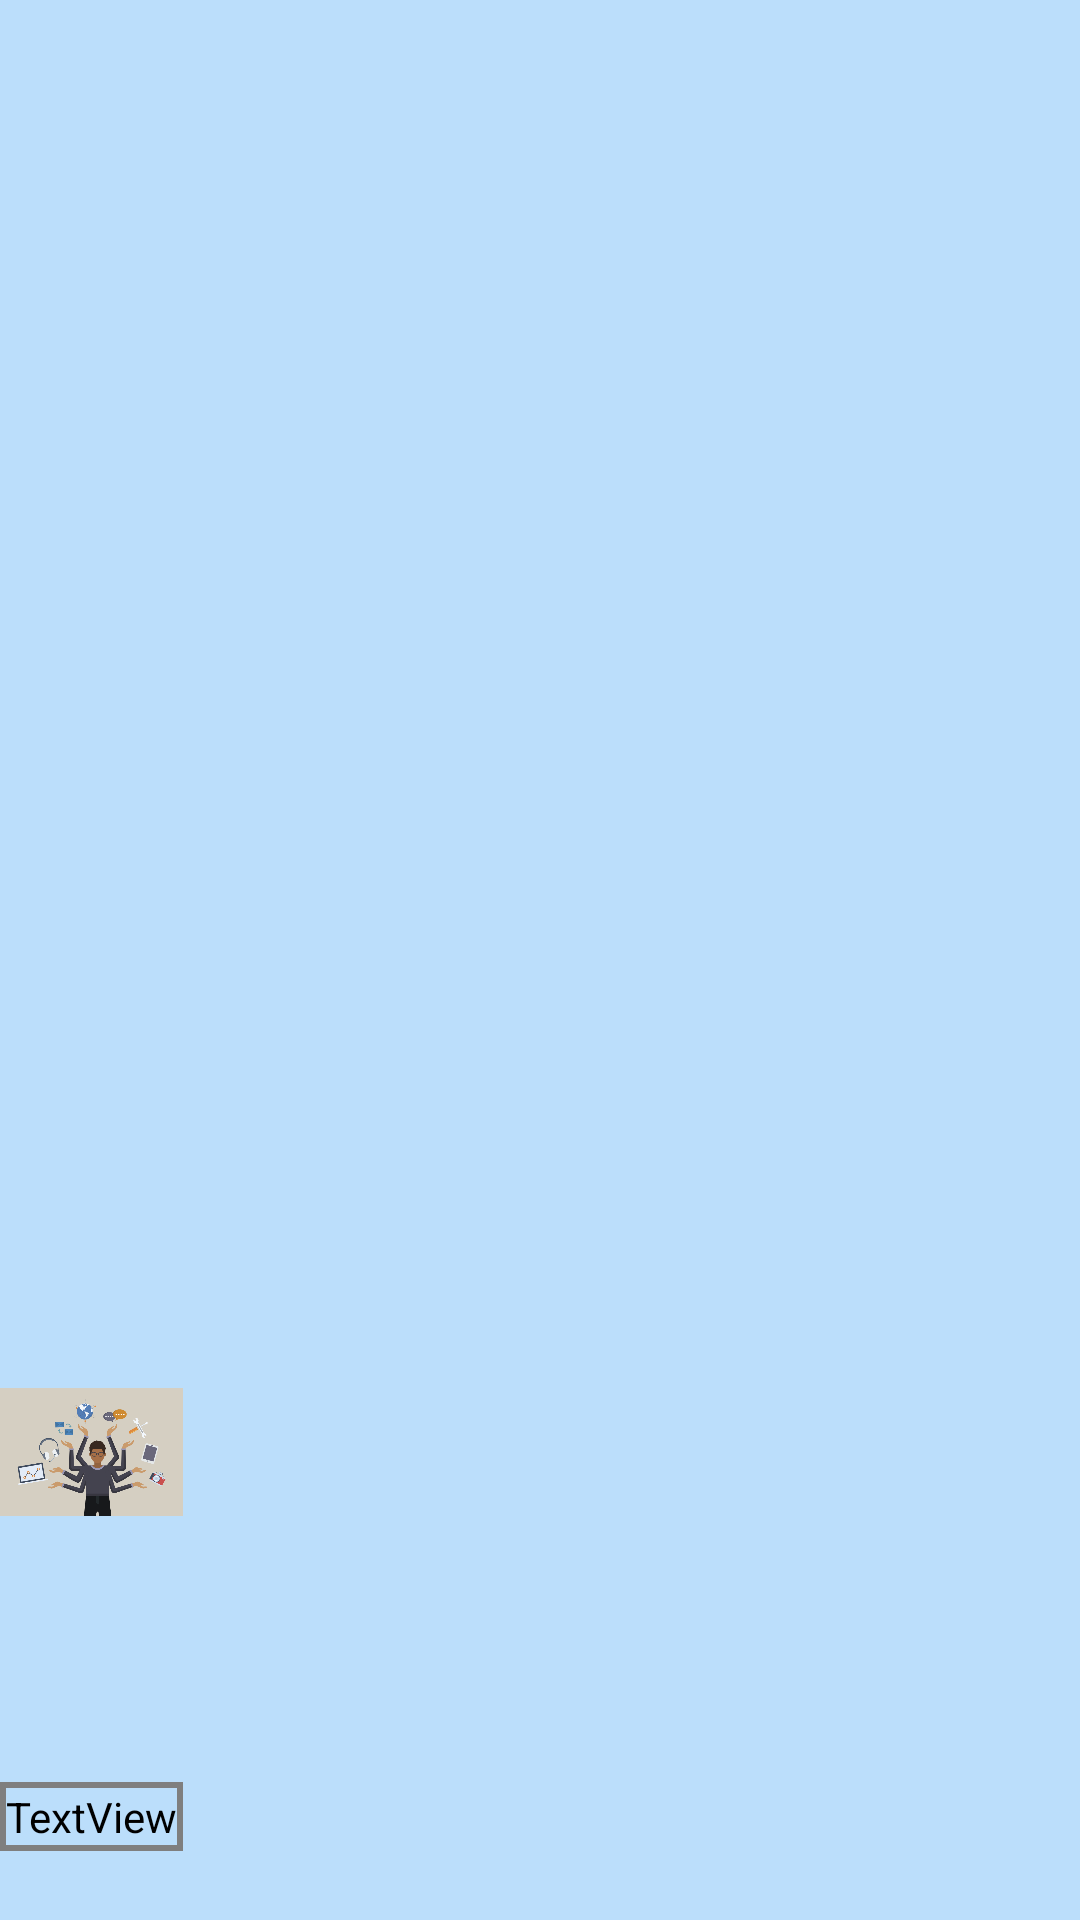

Point at icon controls on the screen. Image size 1080px×1920px, points as (x=x, y=y).
An image of the News Item Header: (x=91, y=1452)
